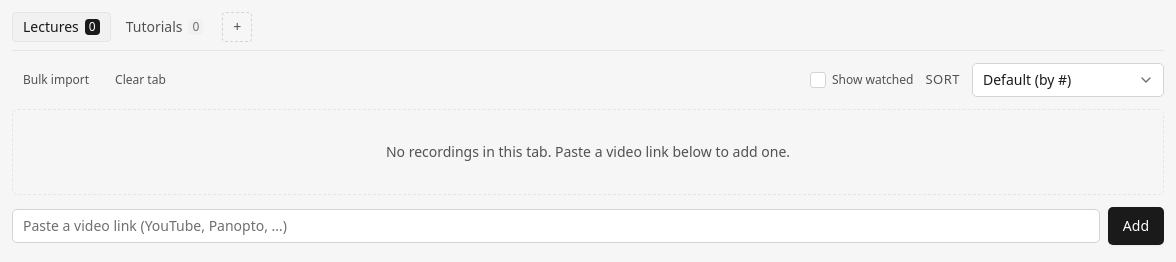
Test: RecordingsTab › adds a recording and auto-names it "Video 1" for a YouTube link
This screenshot has width=1176, height=262.
In the field labelled "video link": (556, 226) [12,209,1100,243], type "https://www.youtube.com/watch?v=abc"
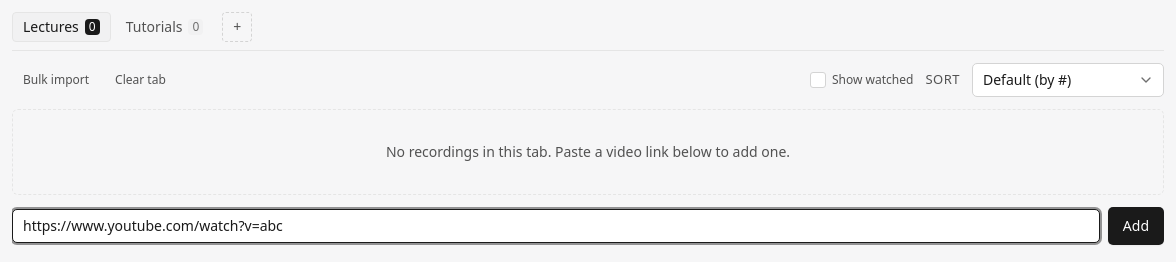
Click the button "Add": click(1136, 226) [1108,207,1164,245]
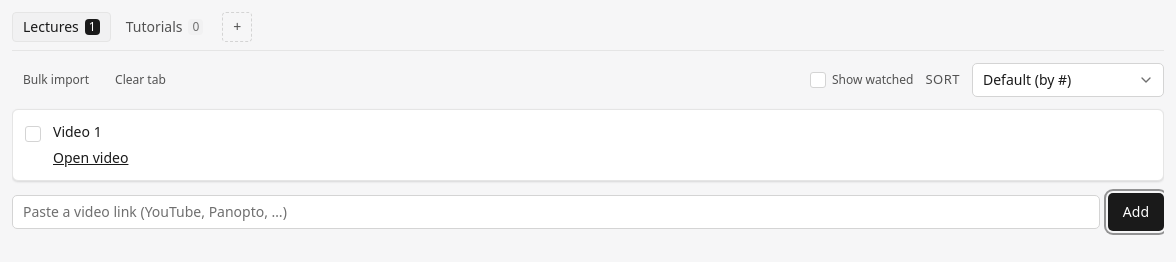
Check: the text "Video 1" is shown, box [53,122,102,141]
Check: the field labelled "video link" is empty, box [12,195,1100,229]
